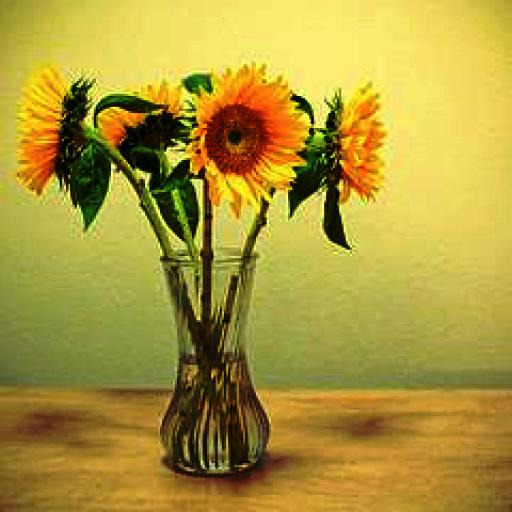sunflower: (190, 62, 305, 209), (15, 68, 90, 196), (318, 88, 384, 200)
